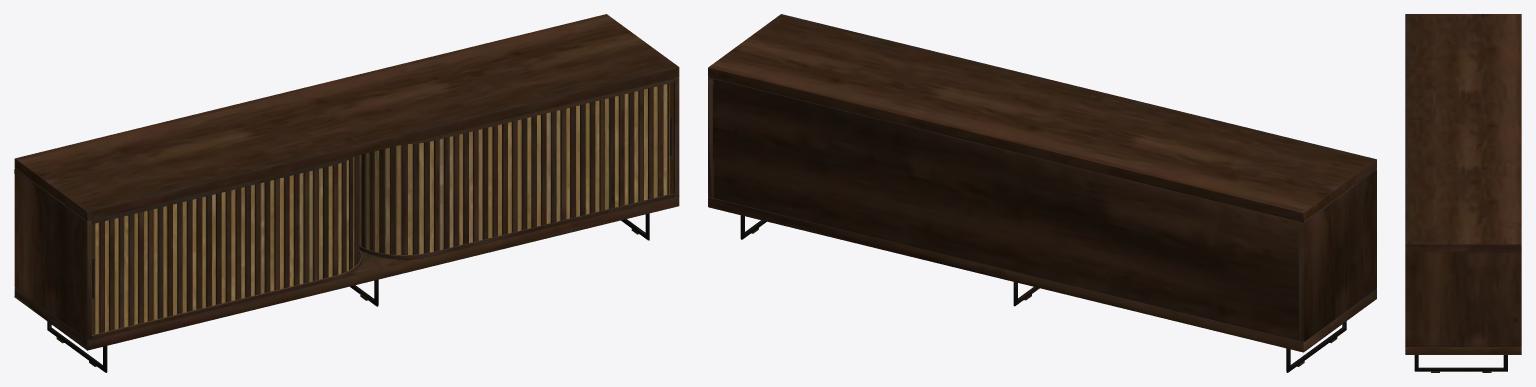
File: tv-cabinet.glb
The picture shows the model from 3 angles, left to right: view 1: azimuth 30°, elevation 25°; view 2: azimuth 150°, elevation 25°; view 3: azimuth 270°, elevation 25°; orthographic projection. The views are drawn at different scales.
Visible parts, largest first — view 1: modern_wooden_cabinet_body, modern_wooden_cabinet_door_r, modern_wooden_cabinet_door_l; view 2: modern_wooden_cabinet_body; view 3: modern_wooden_cabinet_body.
Boxes of the visible parts, x1,y1,x2,y2 form: modern_wooden_cabinet_body: [14, 14, 679, 372]; modern_wooden_cabinet_door_r: [359, 82, 673, 254]; modern_wooden_cabinet_door_l: [91, 155, 359, 334]; modern_wooden_cabinet_body: [708, 14, 1376, 372]; modern_wooden_cabinet_body: [1405, 14, 1521, 372].
Size of the model in its own units: 2.44 by 0.6801 by 0.5201.
1 material, 1 textured.
